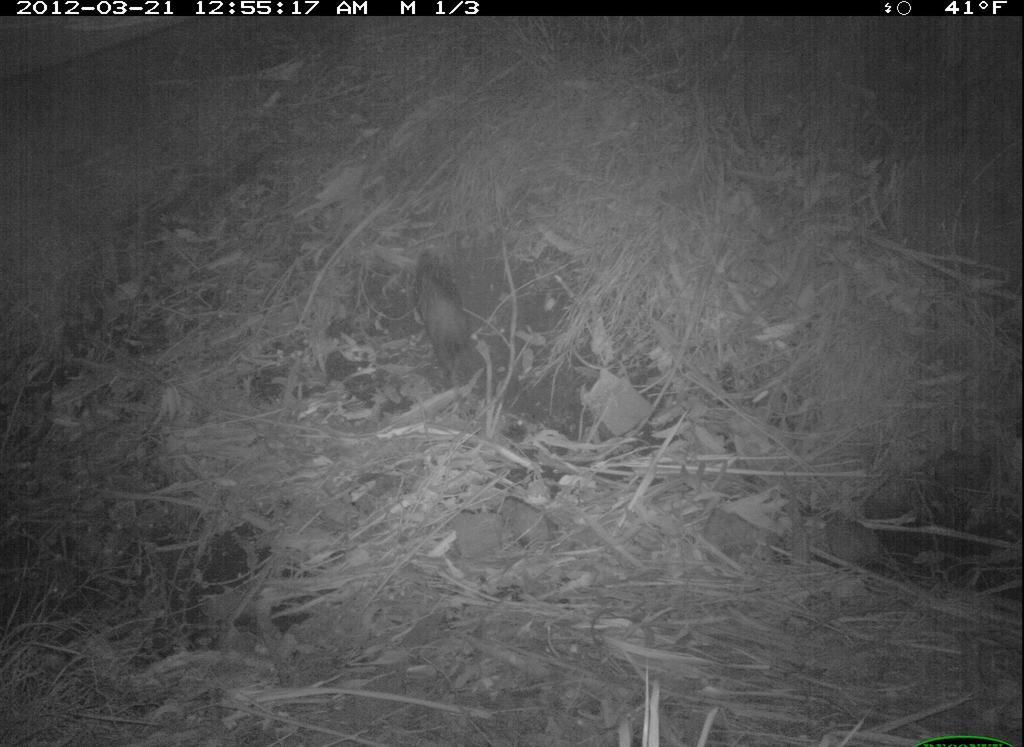opossum: (403, 244, 486, 408)
